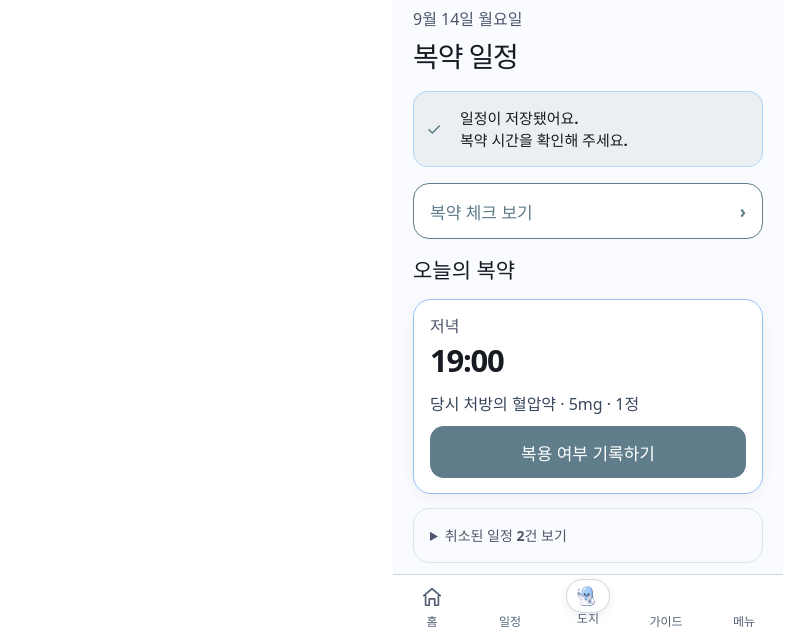
Test: production 복약 일정 › 취소 이력은 접힌 영역으로 분리하고 현재 복약만 카드로 표시한다
Expected: the number of buttons "복용 여부 기록하기" is 1, [430, 426, 746, 478]
Click the heading "취소된 일정 2건 보기". click: point(506, 536)
box: [445, 526, 567, 545]
(page scrolled)
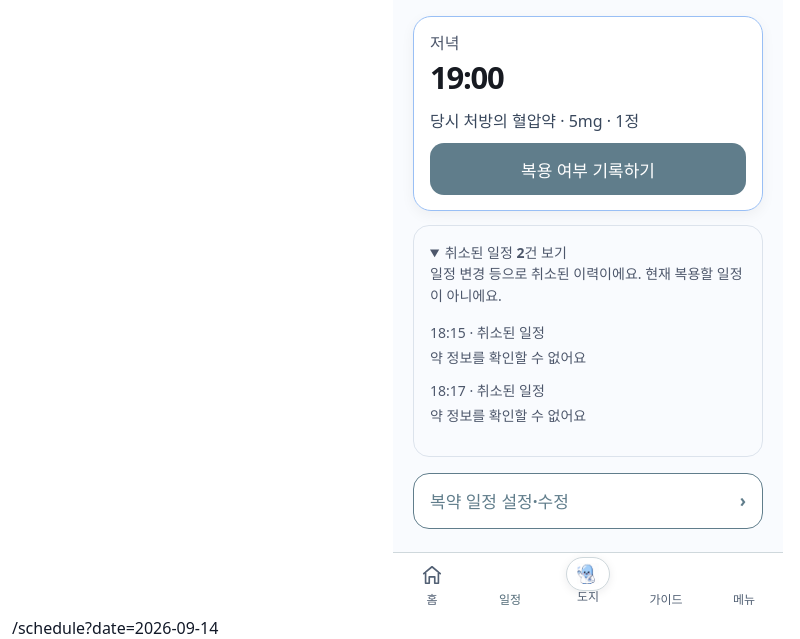
Expected: the number of list items is 2, [430, 323, 586, 367]; [430, 381, 586, 425]
Expected: the text "취소된 일정 2건 보기" shows "18:15", [430, 323, 466, 342]
Expected: the text "취소된 일정 2건 보기" shows "18:17", [430, 381, 466, 400]
